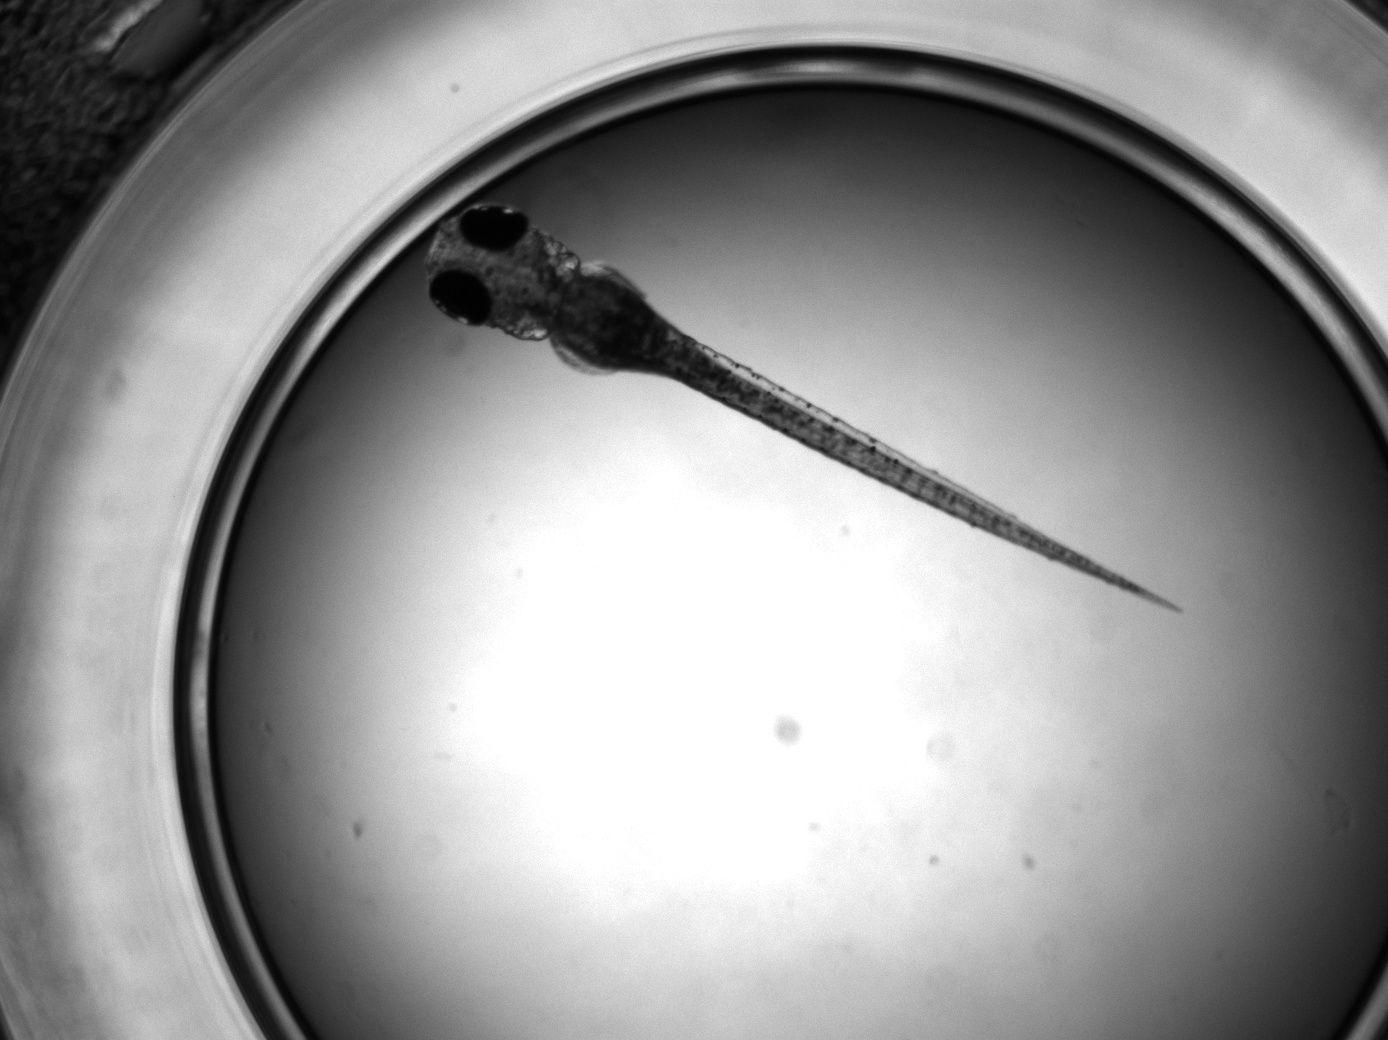embryo: (427, 202, 1189, 619)
eye: (430, 269, 496, 329), (458, 201, 529, 253)
yolksac: (550, 261, 687, 374)
